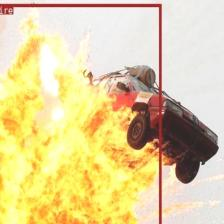fire: (0, 3, 161, 224)
